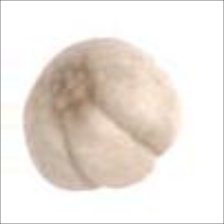L5: (57, 98, 165, 190), (40, 59, 97, 114)
L6: (21, 35, 184, 192)
